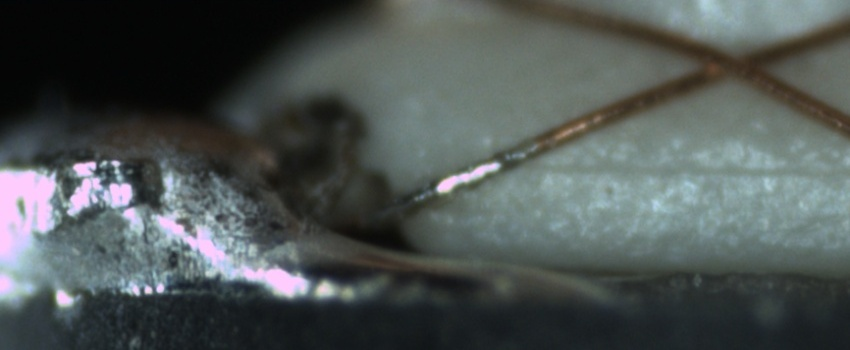CL: (687, 32, 781, 91)
DL: (484, 136, 850, 200)
TS: (332, 137, 538, 237)
